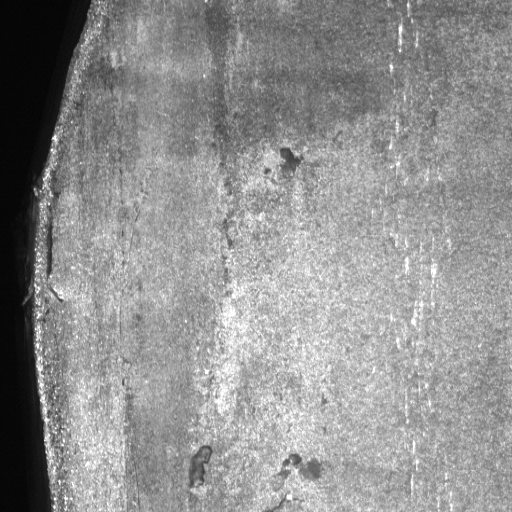qiaopi: (185, 442, 215, 494), (274, 141, 303, 185)
